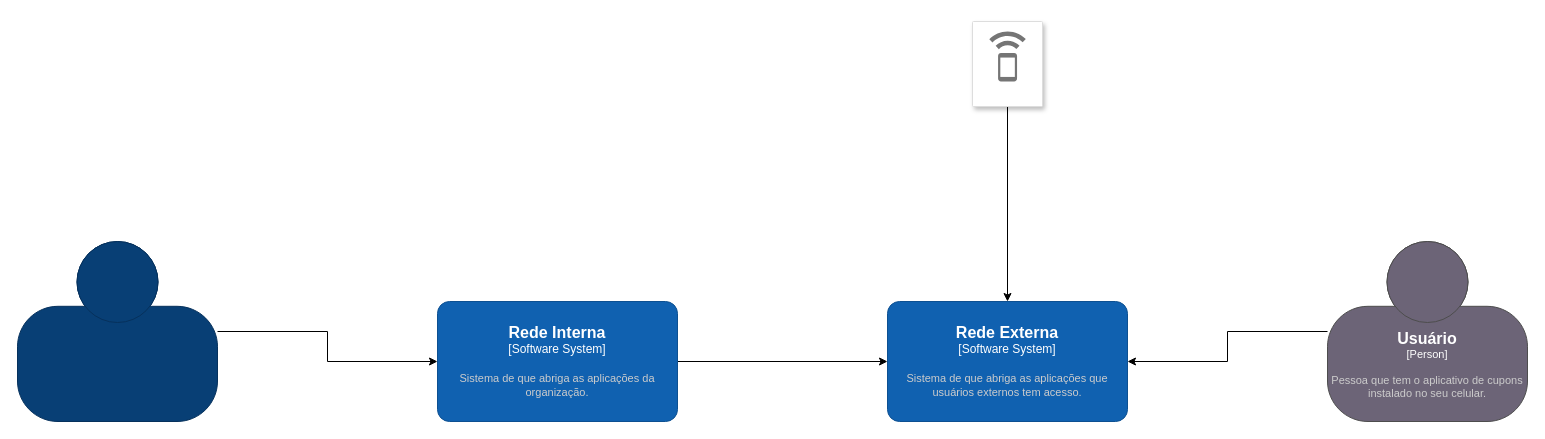
The diagram is 1545 pixels wide and 439 high, and some of its shapes have lost their labels. Here are the shapes that lost their labels. From the top down, the centre of each, then its label:
At point (1008, 65): "Beacon".
At point (117, 331): "Admin [Person] Pessoa responsavel pelo cadastro de beacons no sistema.".
